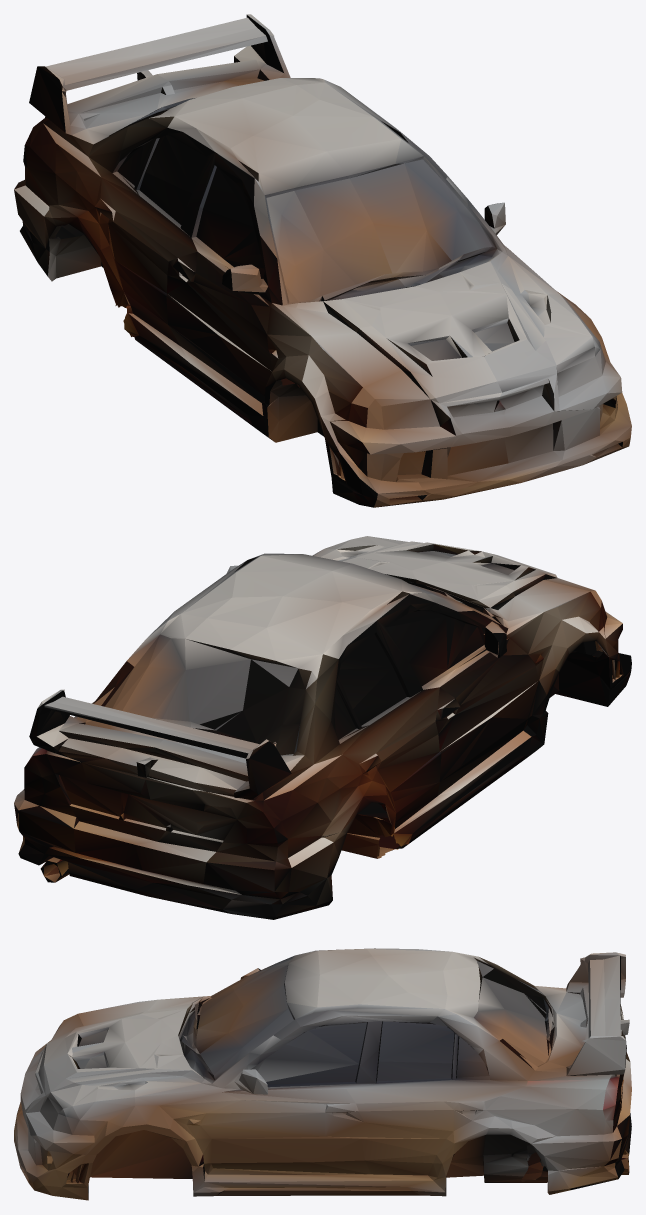
The model's file is mitsubishi_evo6.glb.
3 views of the same model, one above another, from view 1: azimuth 30°, elevation 25°; view 2: azimuth 150°, elevation 25°; view 3: azimuth 270°, elevation 25° (orthographic). The views are drawn at different scales.
Visible parts, largest first — view 1: Wreck_mitsubishi_evo6; view 2: Wreck_mitsubishi_evo6; view 3: Wreck_mitsubishi_evo6.
Part boxes in pixels (bbox=[...]): Wreck_mitsubishi_evo6: bbox=[14, 14, 631, 507]; Wreck_mitsubishi_evo6: bbox=[14, 536, 631, 919]; Wreck_mitsubishi_evo6: bbox=[14, 948, 631, 1200].
Bounding box in the file's own units: 1.94 × 1.35 × 4.35.
